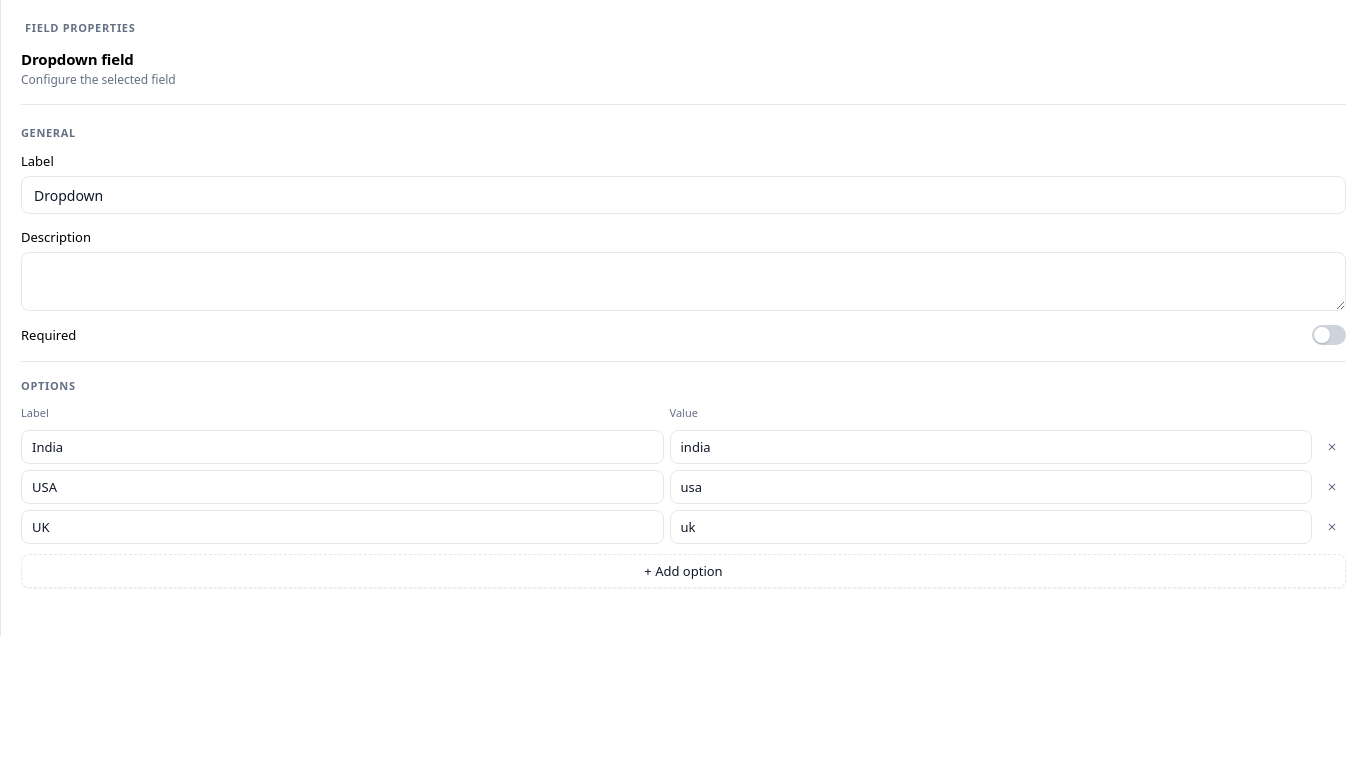
it: dropdown options › warns about duplicate option values
Replace the text in the field named "Option 2 value" with "india": x=991, y=487 left=670, top=470, right=1312, bottom=504
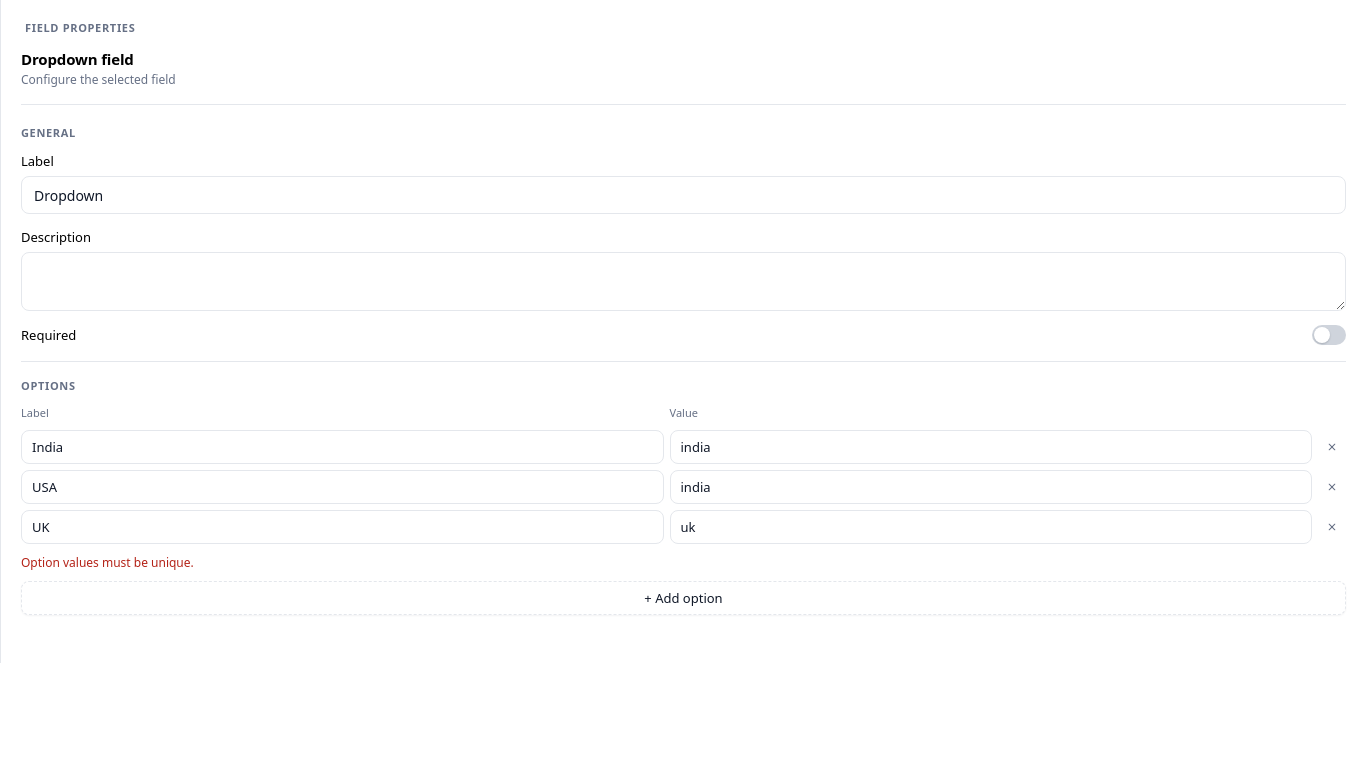
Expected: the text "Option values must be unique." is shown, left=21, top=554, right=194, bottom=571
